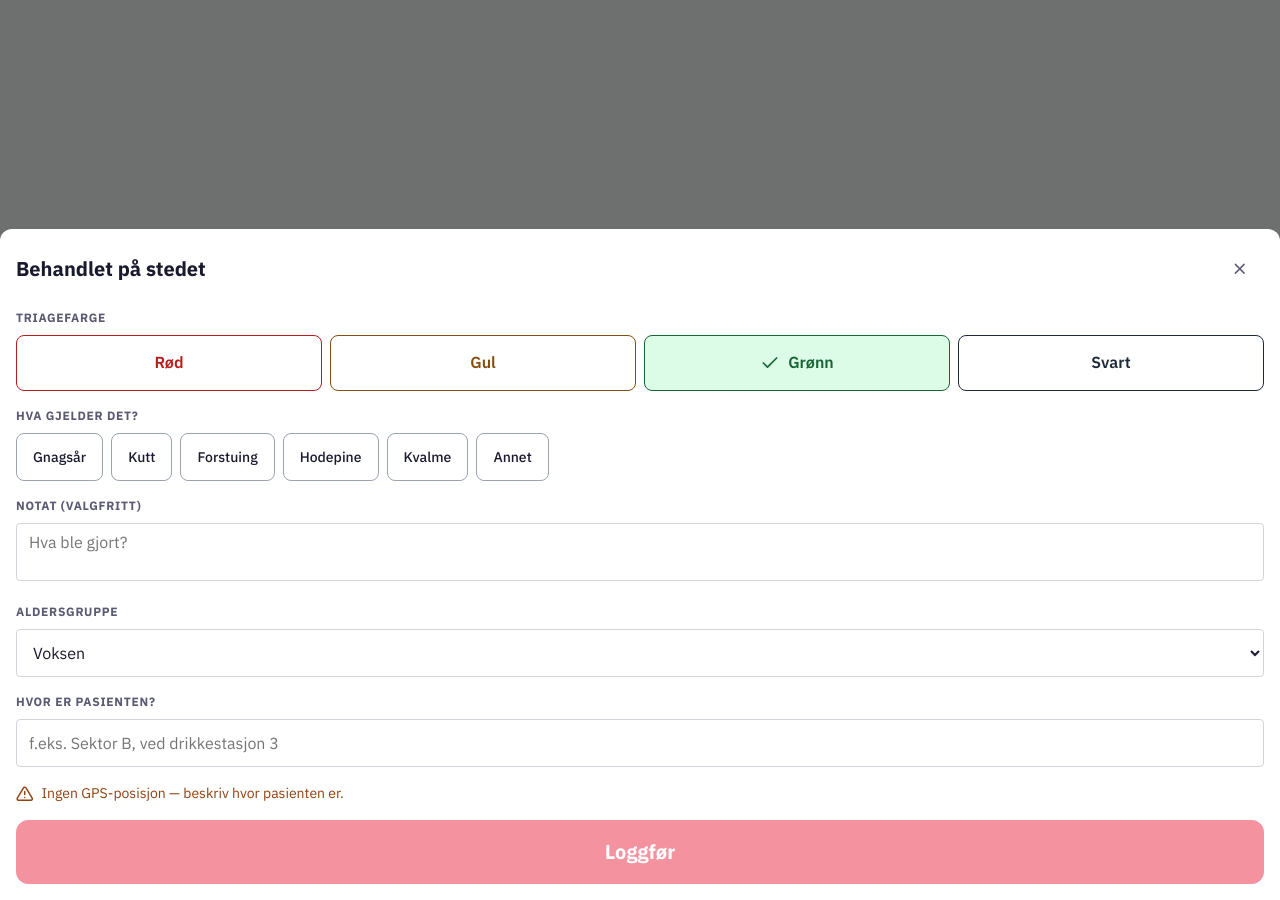
Test: QuickLogSheet (gap A8 / item 8.28) › submit is disabled until a complaint is picked
Expected: the button with test id "firstaid-quick-log-submit" is disabled, [16, 820, 1264, 884]
Click the radio button with test id "firstaid-quick-log-complaint-blister". click: (60, 457)
box: [16, 433, 103, 481]
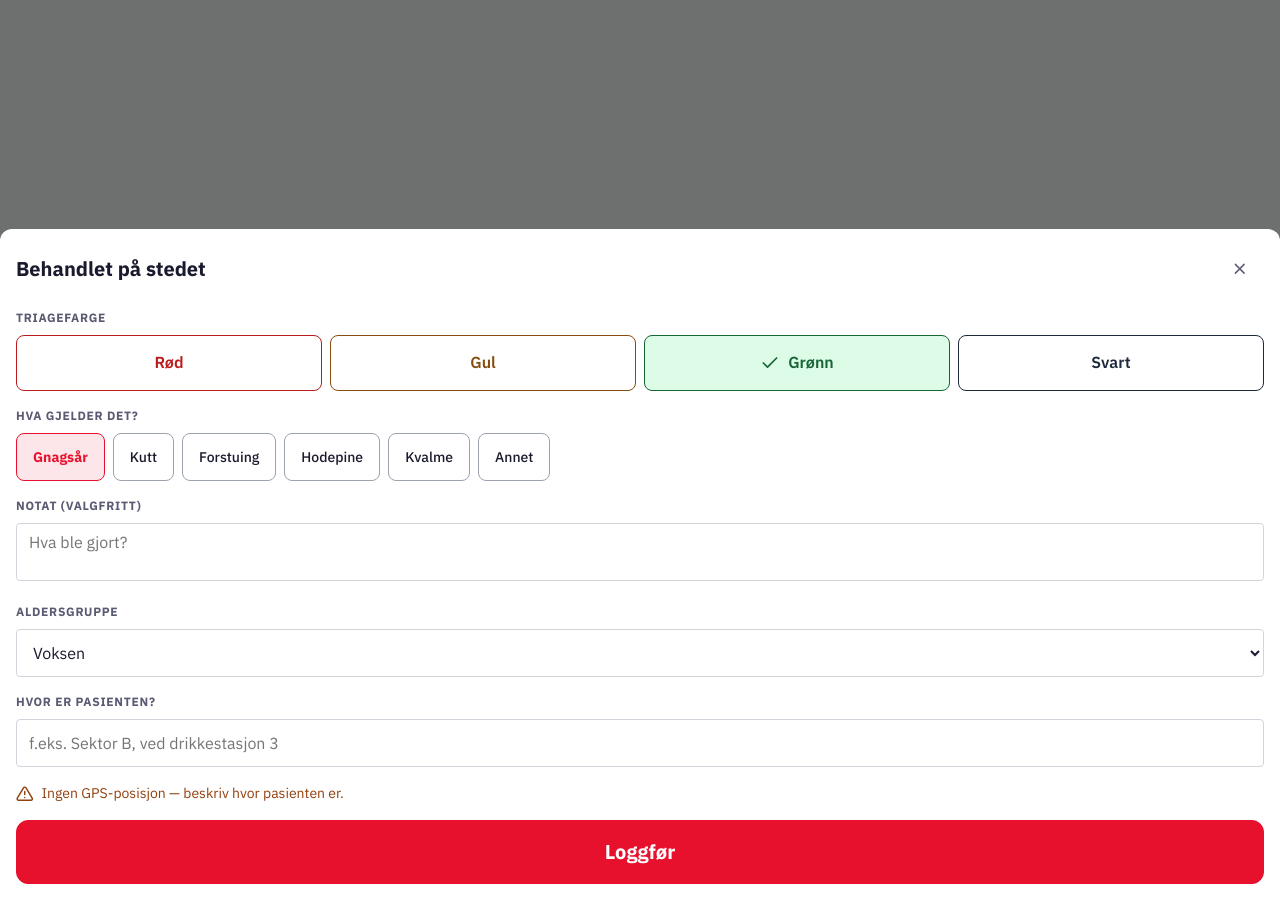
Result: the button with test id "firstaid-quick-log-submit" is enabled at [16, 820, 1264, 884]
